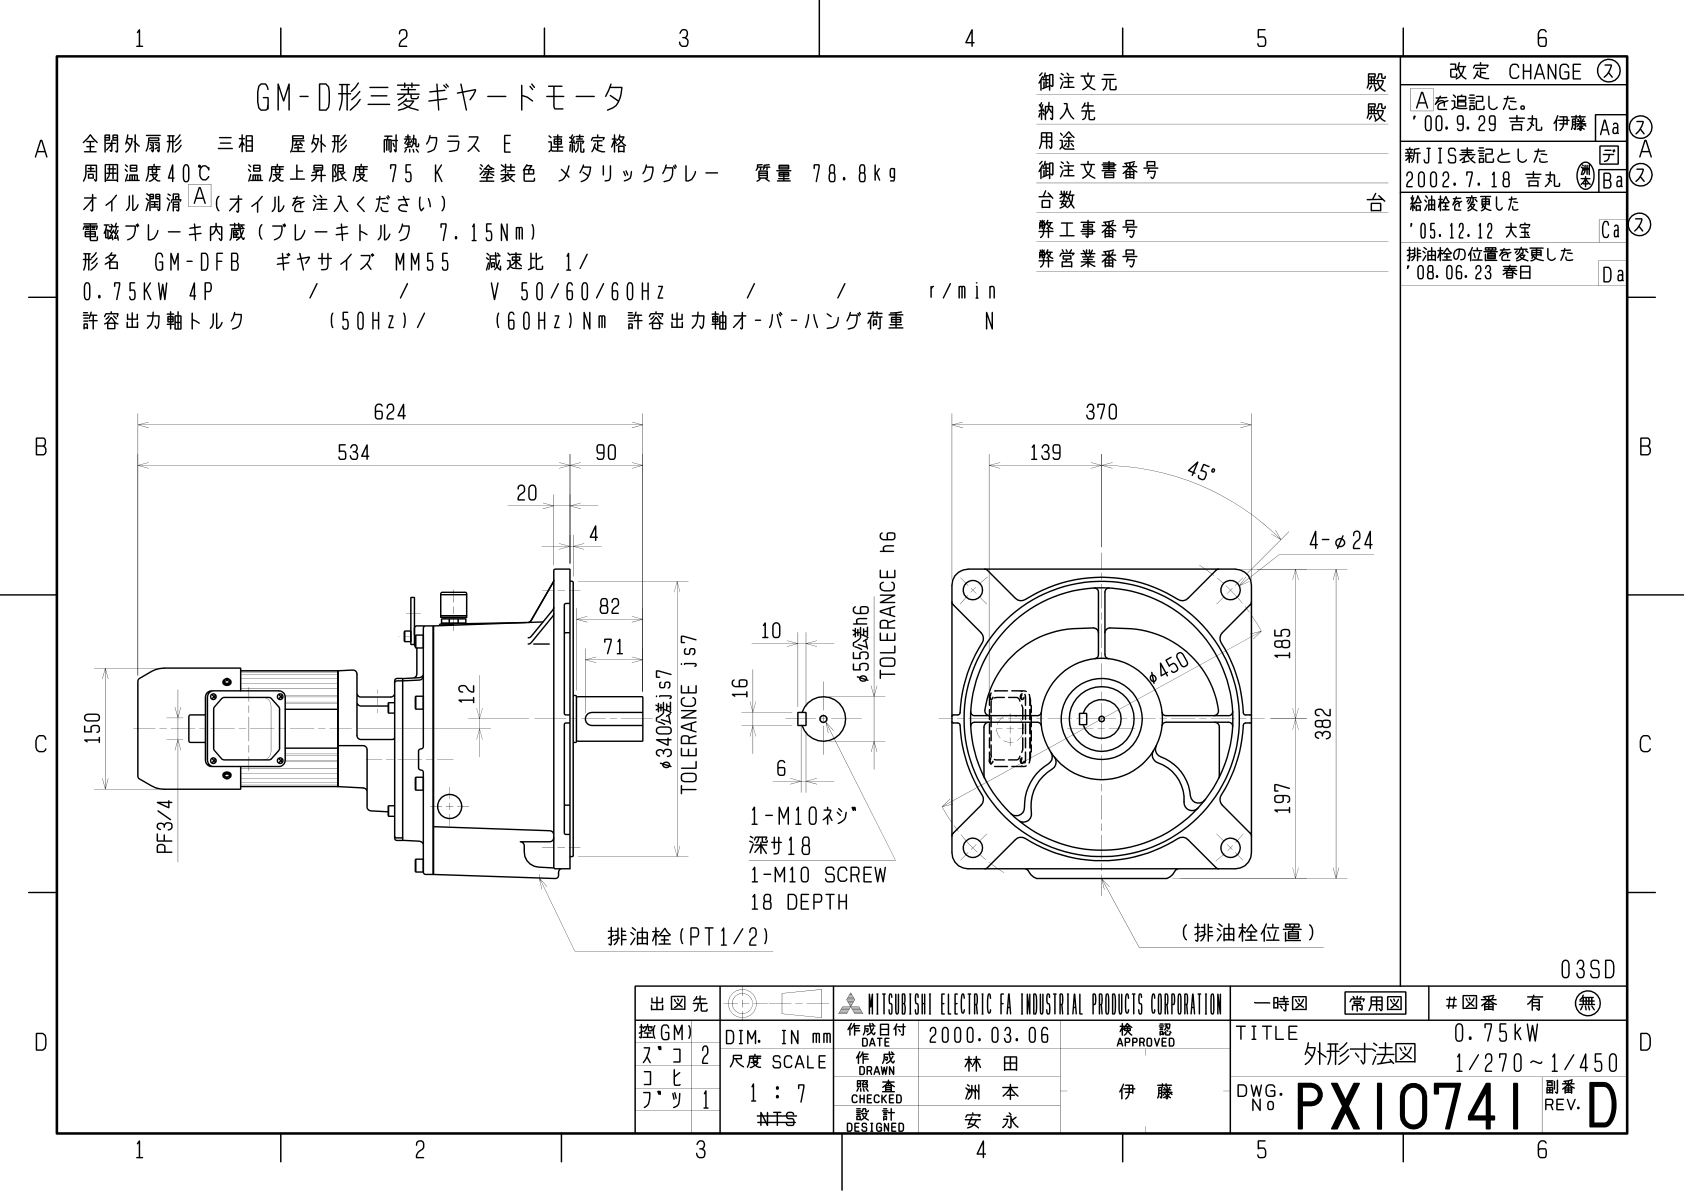GM_D_屋外＿三相_フランジ: (8, 9, 1684, 1191)
